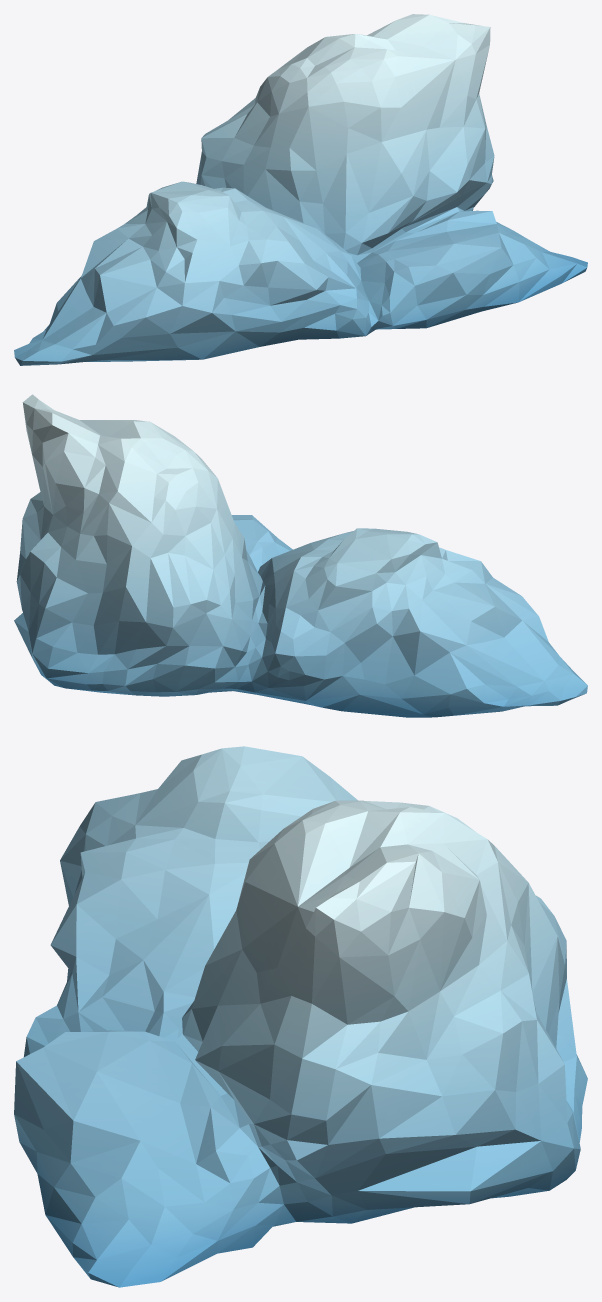
Rendered from Jungle_Clouds_Lrg_A.fbx.
The picture shows the model from 3 angles, top to bottom: view 1: azimuth 30°, elevation 25°; view 2: azimuth 150°, elevation 25°; view 3: azimuth 270°, elevation 25°; orthographic projection. The views are drawn at different scales.
Visible parts, largest first — view 1: Jungle_Clouds_Lrg_A; view 2: Jungle_Clouds_Lrg_A; view 3: Jungle_Clouds_Lrg_A.
Boxes of the visible parts, x1=… form: Jungle_Clouds_Lrg_A: x1=14, y1=14, x2=587, y2=365; Jungle_Clouds_Lrg_A: x1=14, y1=394, x2=587, y2=717; Jungle_Clouds_Lrg_A: x1=14, y1=746, x2=587, y2=1287.
Bounding box in the file's own units: 2329 × 898 × 1248.
